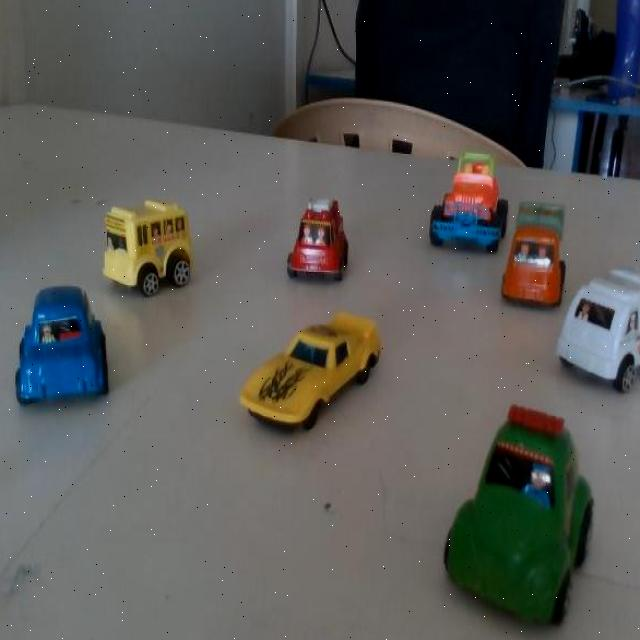car: (447, 408, 616, 612), (237, 299, 391, 441), (10, 282, 111, 415), (561, 257, 640, 403), (110, 197, 203, 304), (502, 187, 574, 314), (420, 142, 504, 250), (287, 185, 363, 294)
